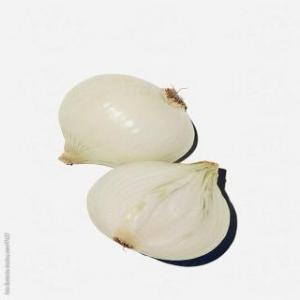onion: (86, 160, 234, 264), (50, 72, 204, 169)
